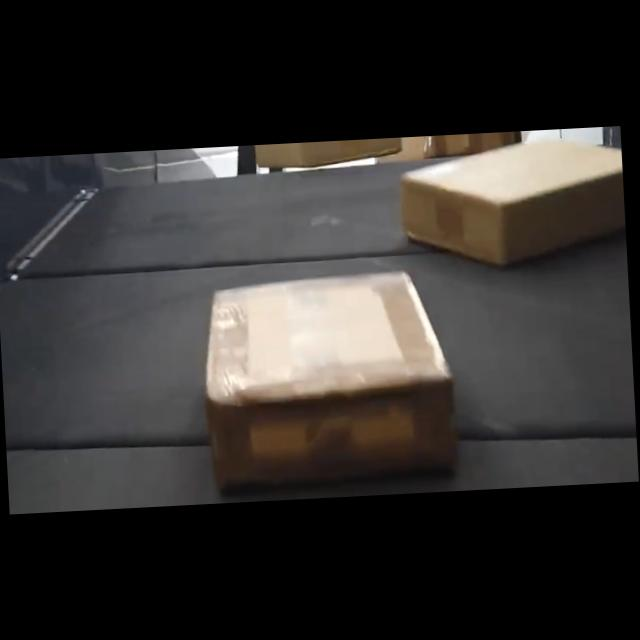box: (200, 266, 462, 488), (399, 136, 627, 261)
